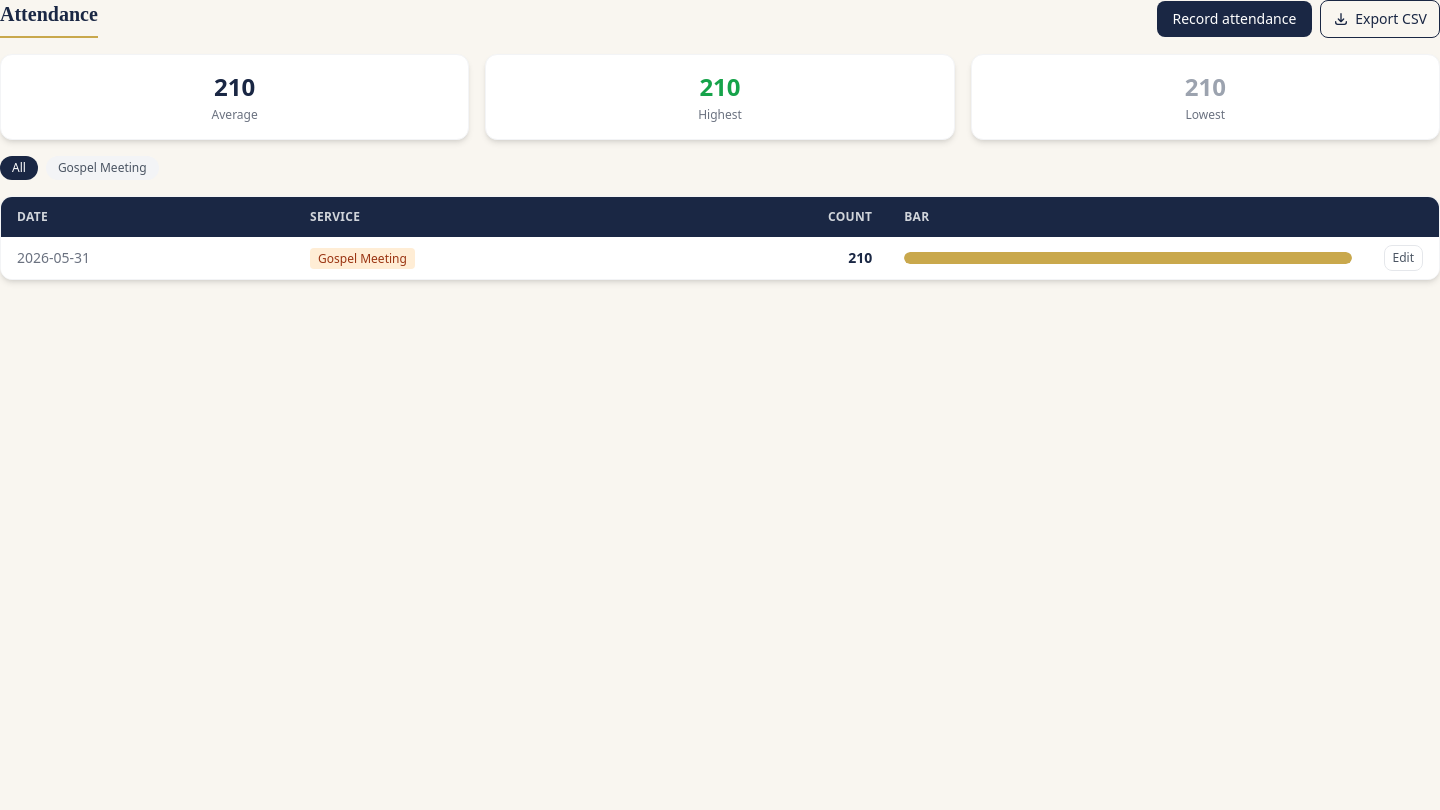
Scenario: AttendanceView — recording a count › a record saved under a service since retired keeps it rather than being reassigned
The width and height of the screenshot is (1440, 810).
Click the button with aria-label "edit gospel meeting".
click(1403, 258)  # box [1384,245,1423,271]
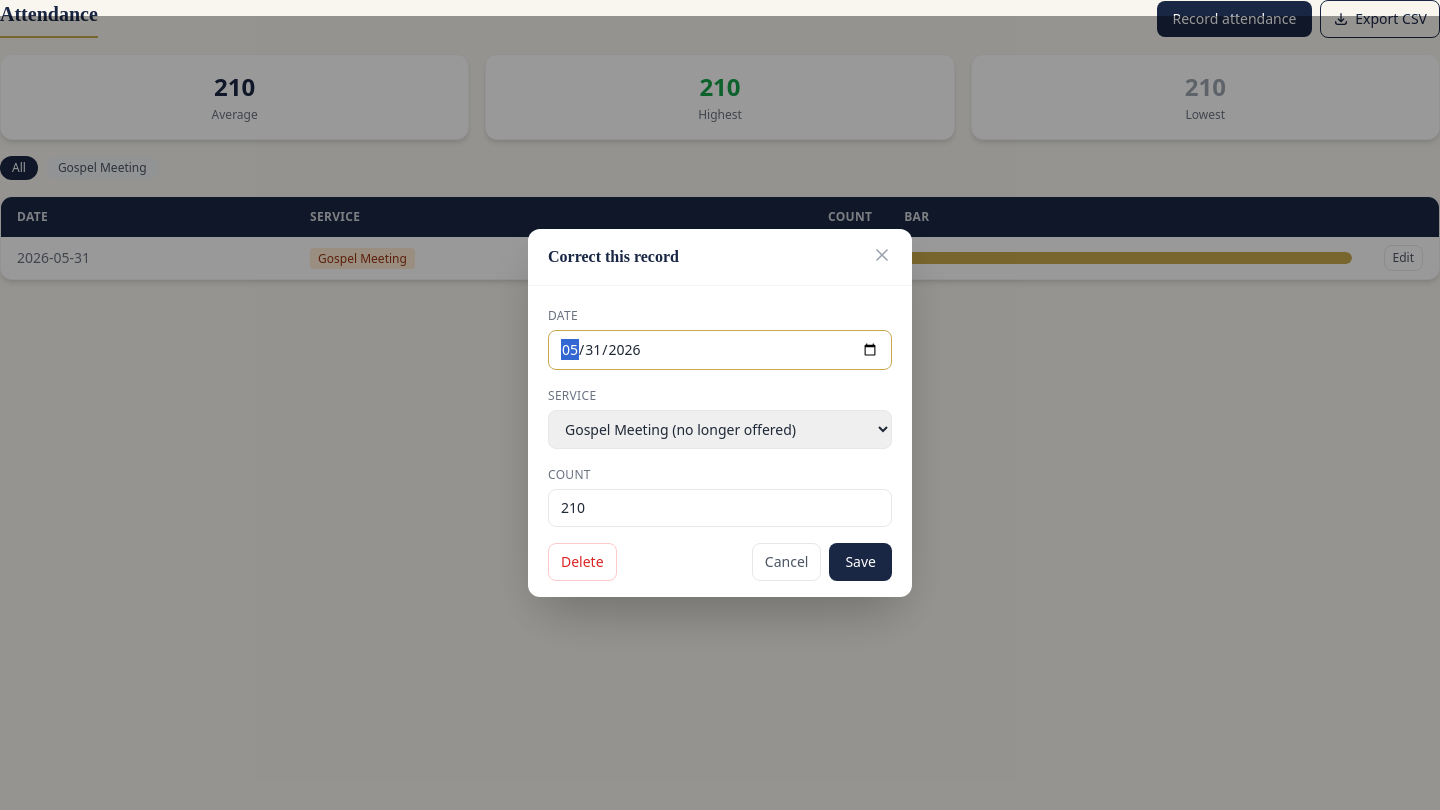
Check: the dropdown labelled "Service" shows "Gospel Meeting (no longer offered)", box [548,410,892,449]
